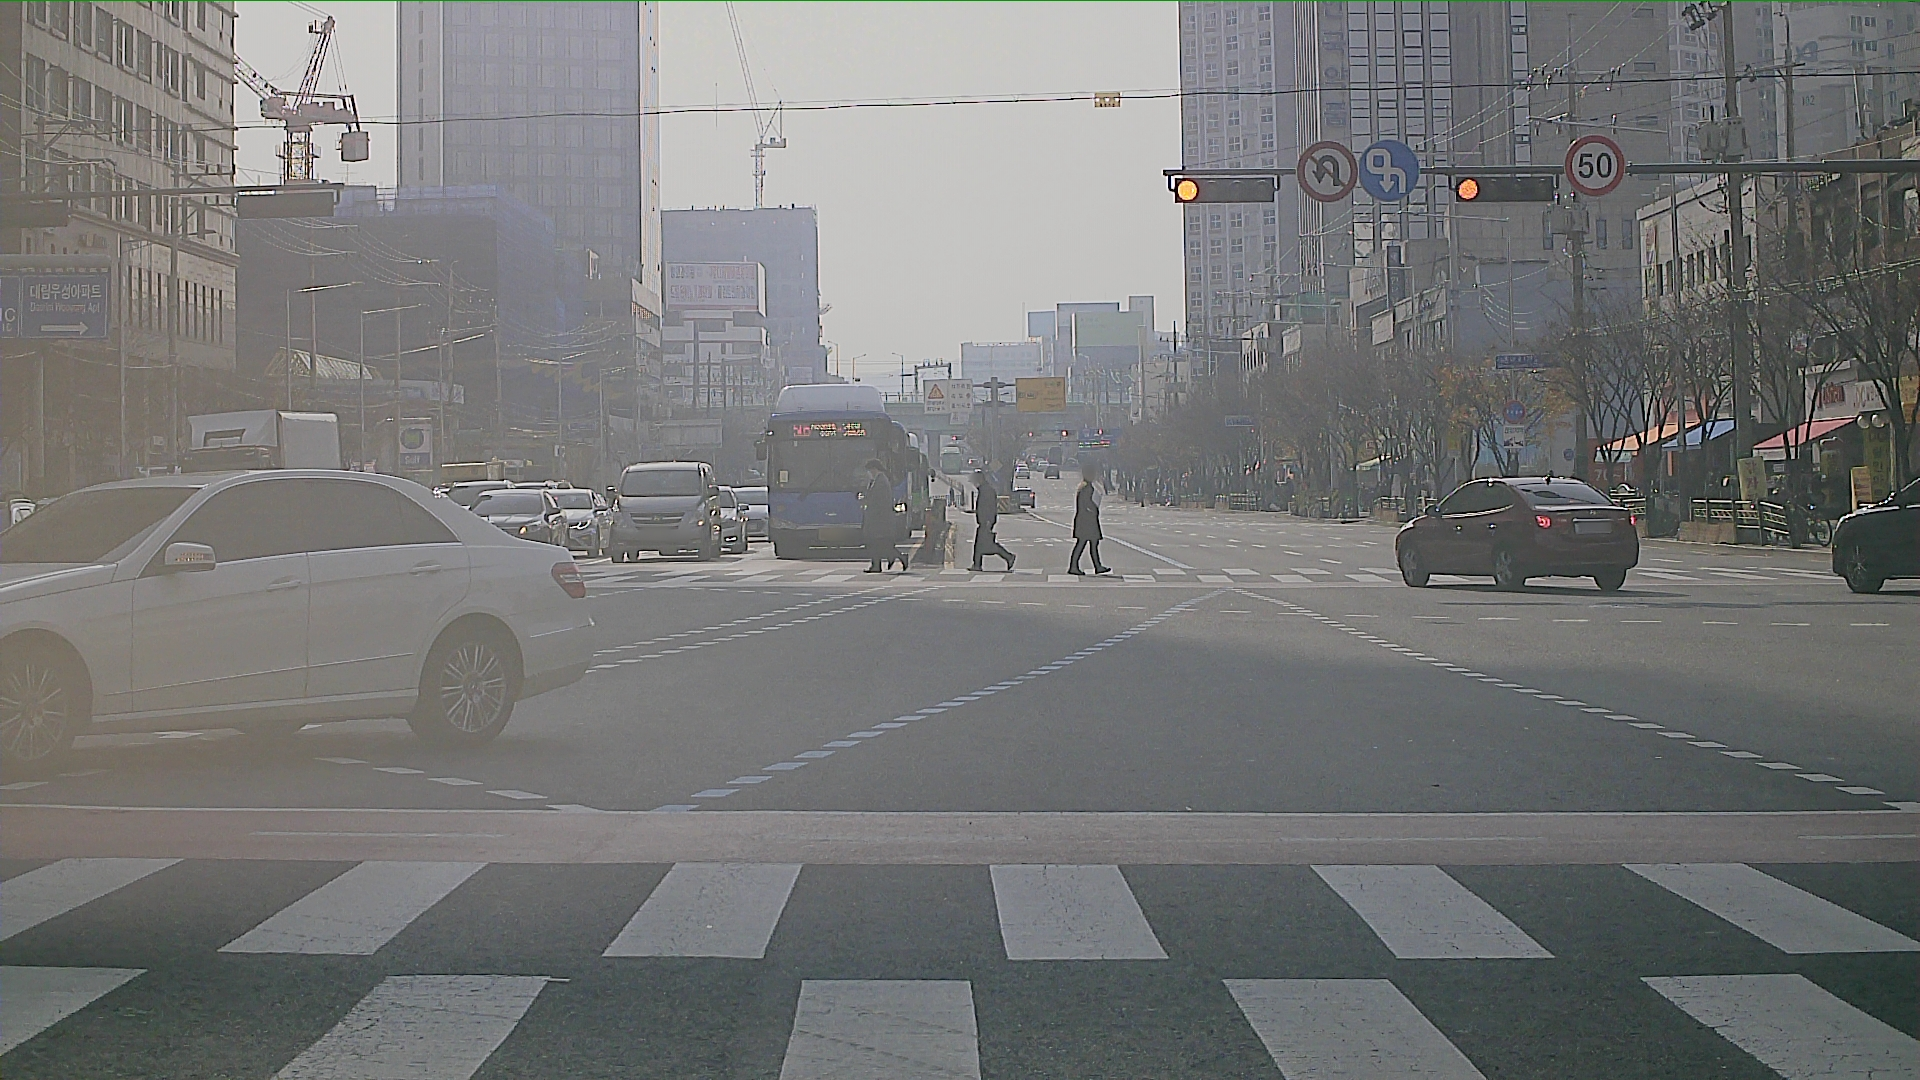trafficLight: (1456, 171, 1557, 207), (1174, 171, 1275, 204)
trafficSignCircle: (1299, 142, 1360, 202), (1358, 140, 1418, 200), (1565, 135, 1625, 195)
